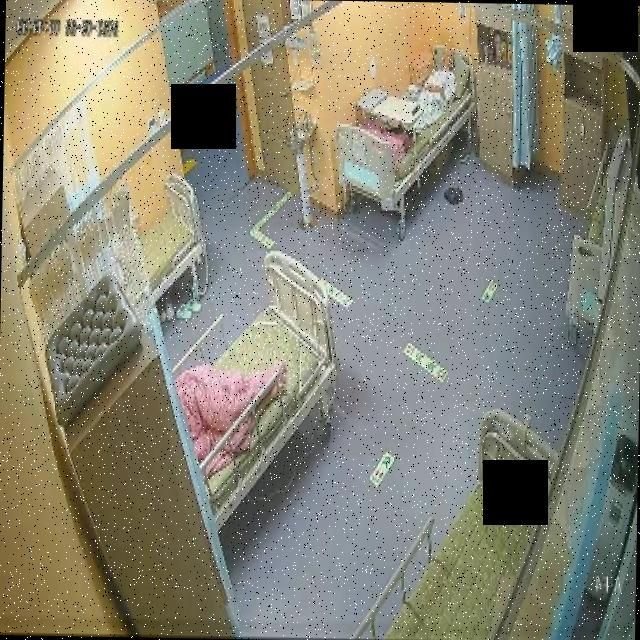bed: (351, 403, 559, 640), (178, 250, 338, 526), (336, 46, 476, 211), (139, 174, 206, 304)
lie: (406, 46, 460, 131)
patient: (406, 46, 459, 130)
